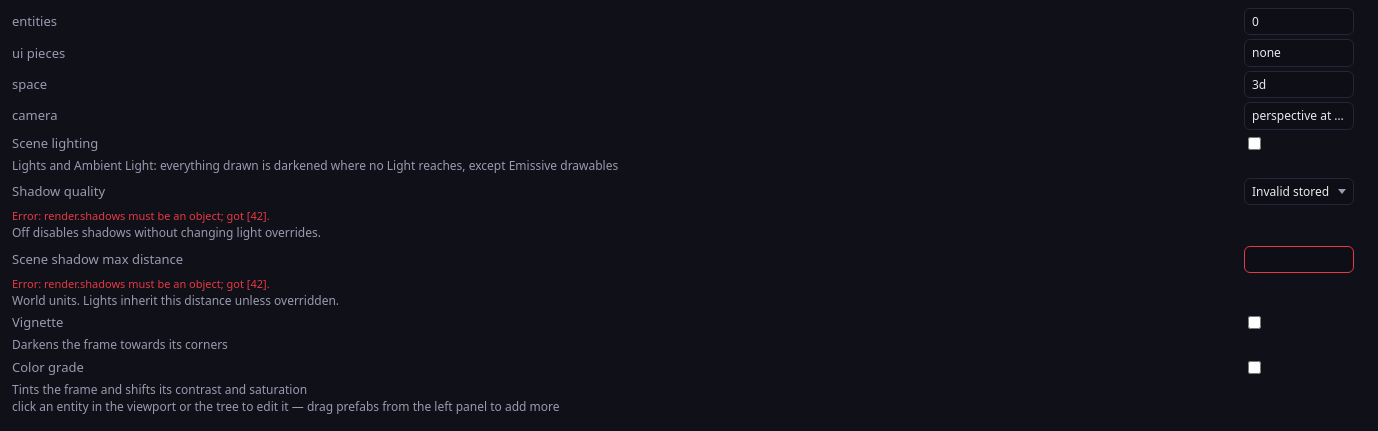
Test: CA-11: repairing an invalid block never spreads array indexes into the authored policy
This screenshot has width=1378, height=431.
Select "Low" in the dropdown labelled "Shadow quality": (1299, 192) [1244,178,1354,205]
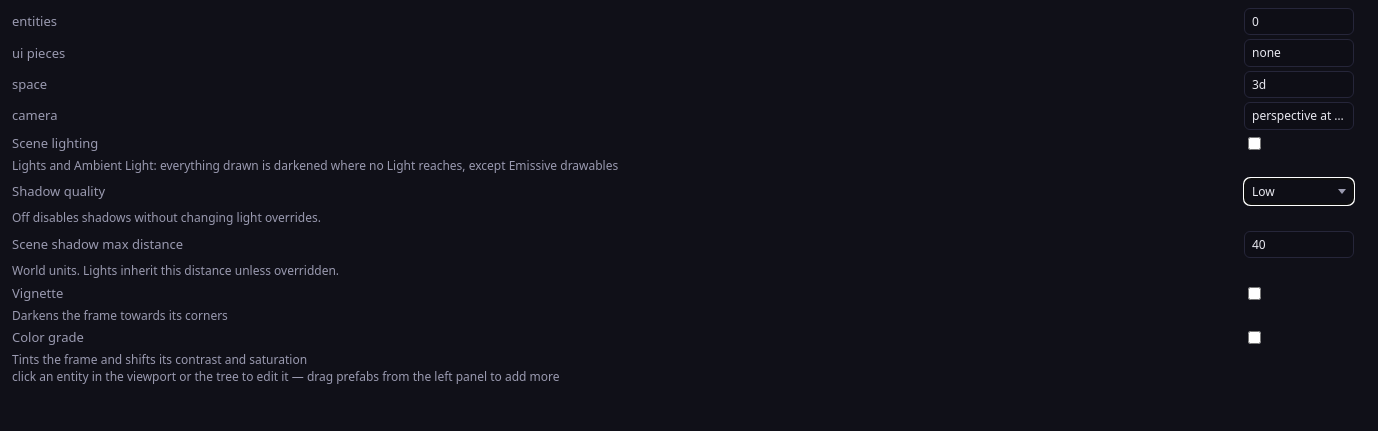
Check: the message "Error: render.shadows must be an object; got [42]." is gone
